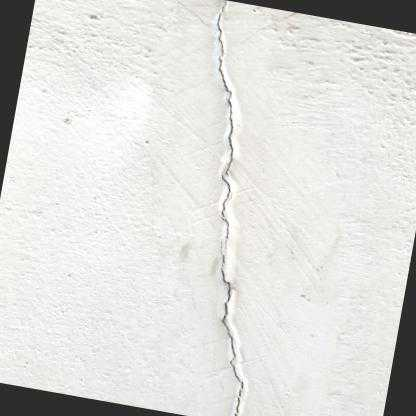crack: (218, 240, 242, 416), (216, 0, 232, 175), (219, 173, 231, 251)
